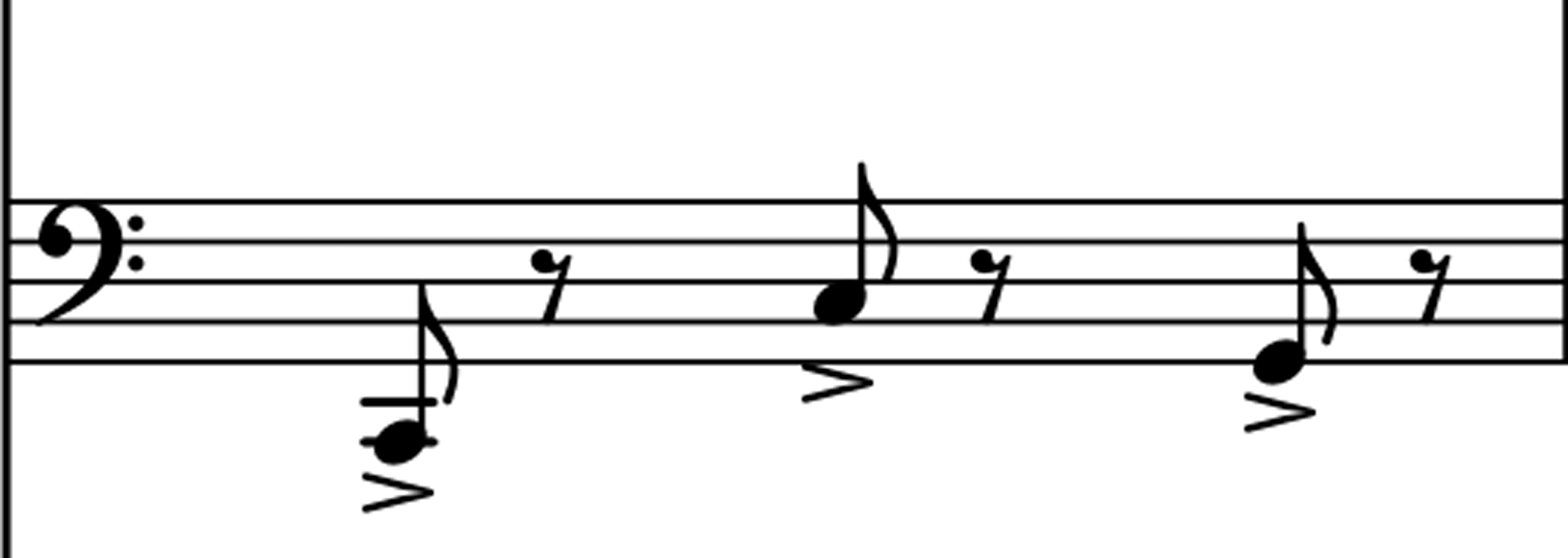articAccentBelow: (362, 473, 433, 512), (802, 362, 872, 401), (1244, 393, 1315, 431)
clefF: (25, 175, 162, 337)
ledgerLine: (369, 438, 436, 445)
noteheadBlackInSpace: (814, 281, 864, 321)
noteheadBlackOnLine: (1253, 340, 1304, 383), (374, 420, 425, 463)
rest8th: (1412, 251, 1450, 322), (533, 251, 571, 322), (974, 251, 1011, 322)
restQuarter: (534, 251, 571, 323), (1414, 251, 1450, 322), (975, 251, 1010, 323)
staff: (294, 192, 1470, 341)
